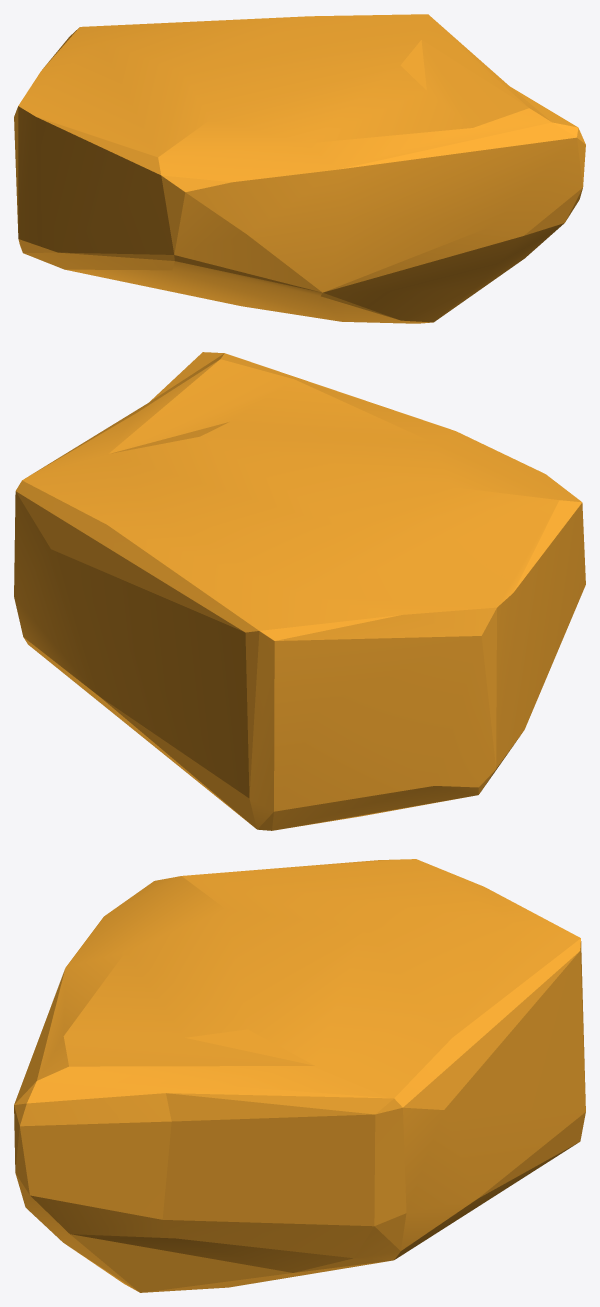
File: SM_Iceberg_Tiny_E.fbx
3 renders of one model, top to bottom at view 1: azimuth 30°, elevation 25°; view 2: azimuth 150°, elevation 25°; view 3: azimuth 270°, elevation 25°, orthographic. The views are drawn at different scales.
Visible parts, largest first — view 1: iceberg-tiny-e; view 2: iceberg-tiny-e; view 3: iceberg-tiny-e.
Part boxes in pixels (x1,y1,x2,y2): iceberg-tiny-e: (14, 14, 585, 323); iceberg-tiny-e: (14, 352, 585, 830); iceberg-tiny-e: (14, 859, 585, 1292).
Size of the model in its own units: 0.3519 by 0.1868 by 0.3489.
